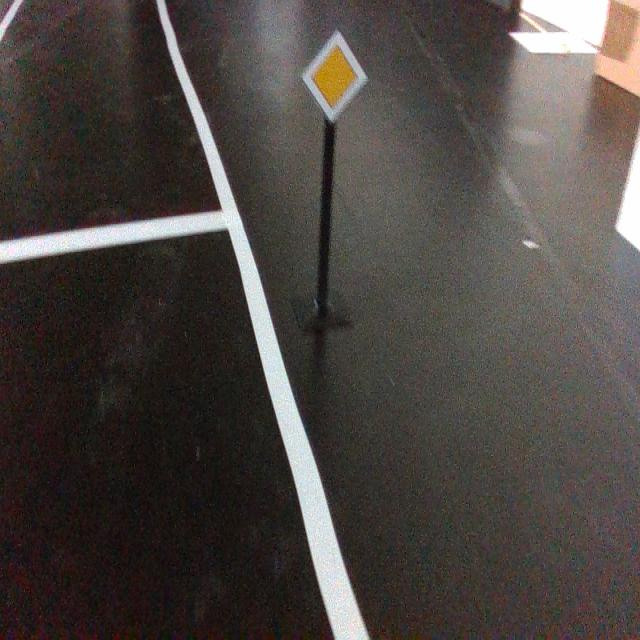priority-sign: (299, 28, 370, 126)
